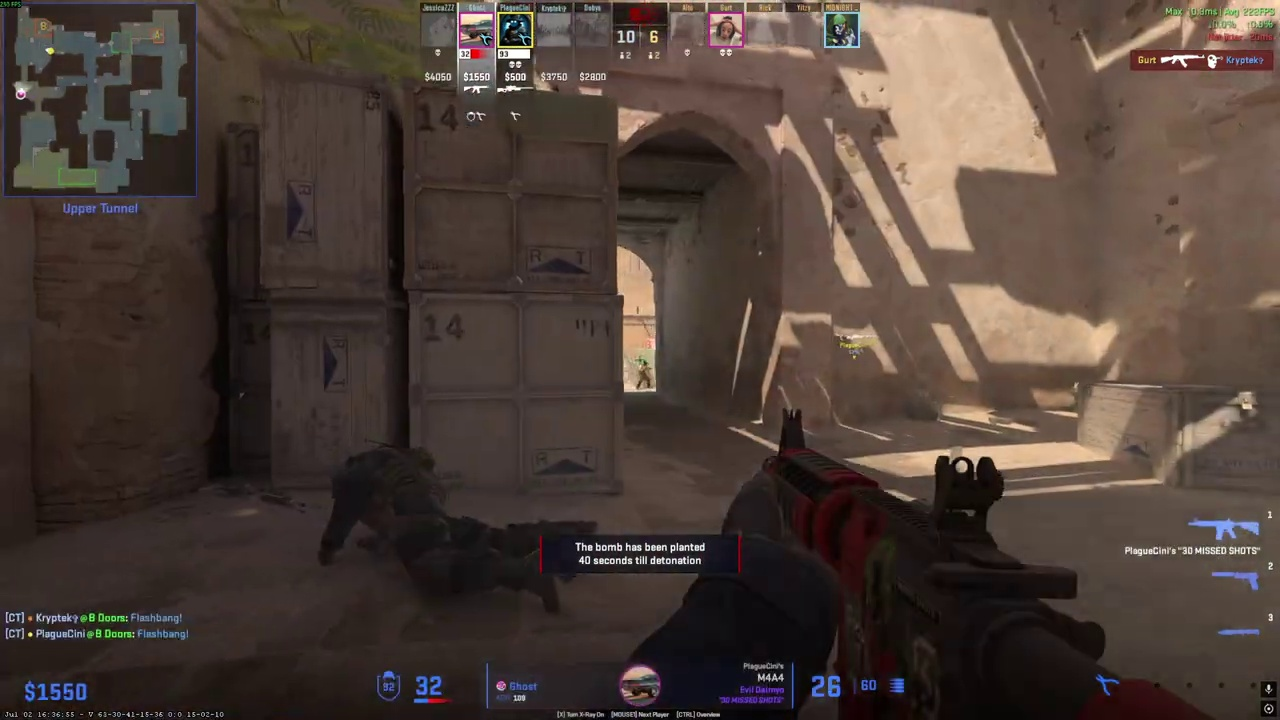Terrorist: (636, 359, 653, 390)
